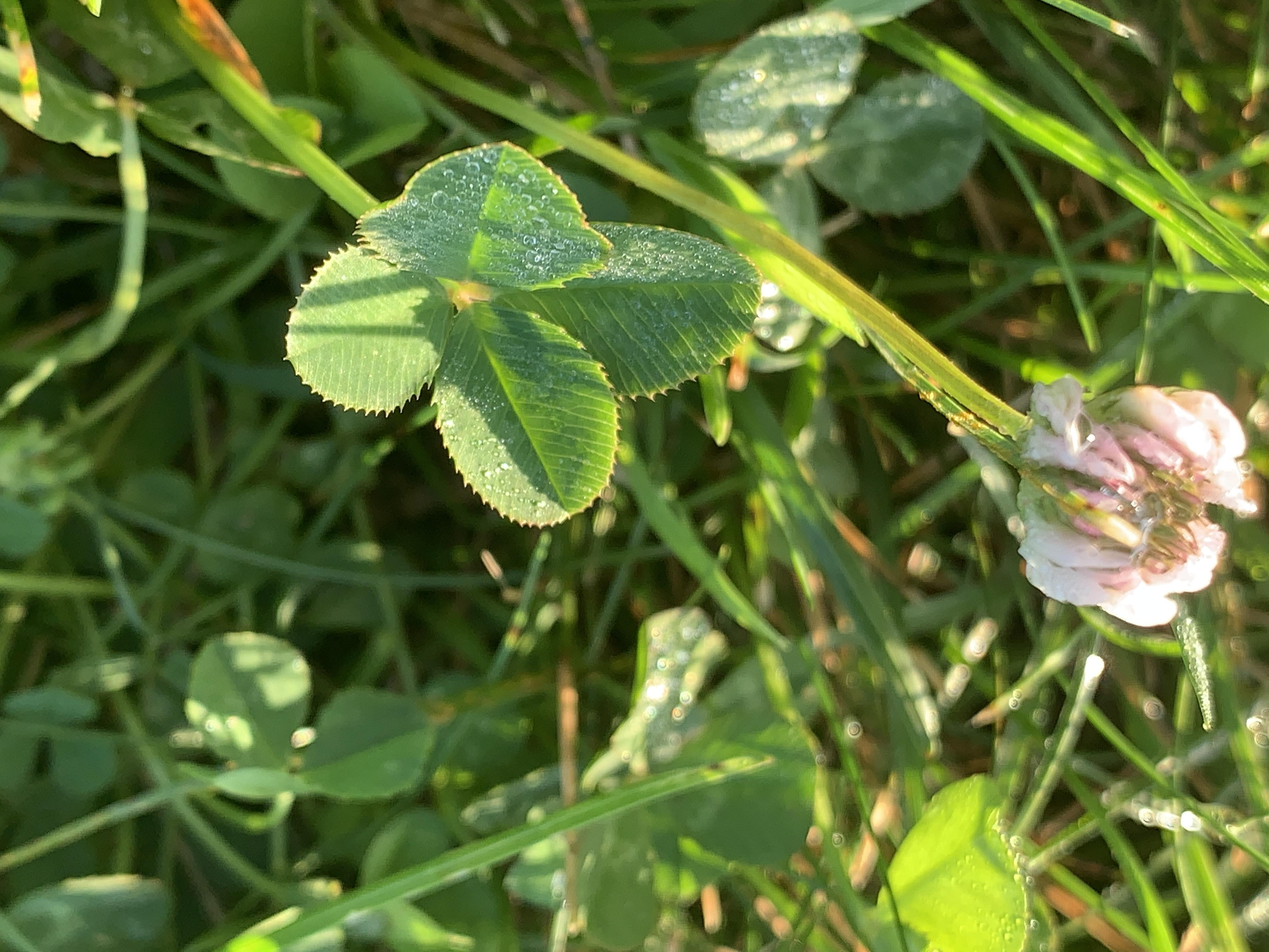4-Leaf-Clovers: (569, 211, 1067, 572)
